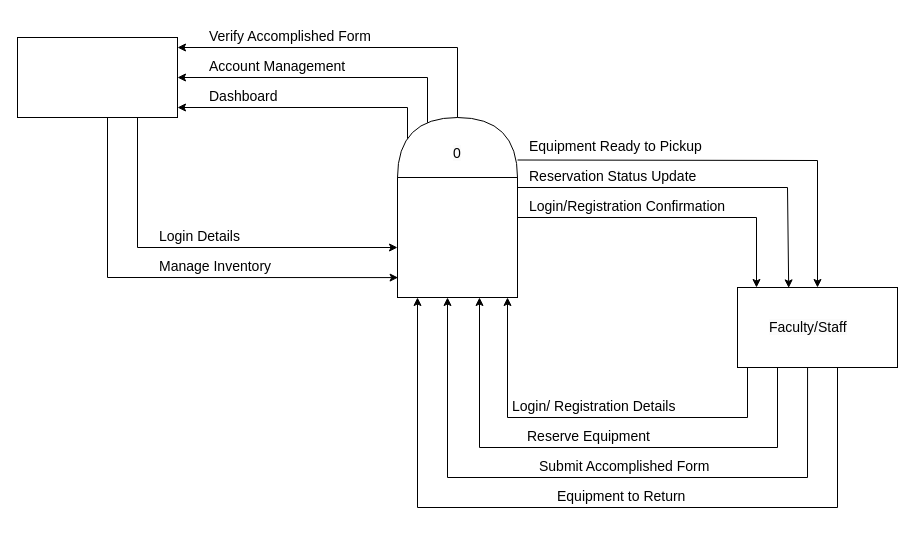
The diagram is 915 pixels wide and 533 high, and some of its shapes have lost their labels. The shapes that lost their labels are listed below. From the top down, each one's centre as x and y in pixels, then its label:
pixel 97 77: Admin
pixel 457 237: istockIT: Inventory Equipment Checker for ITSD
